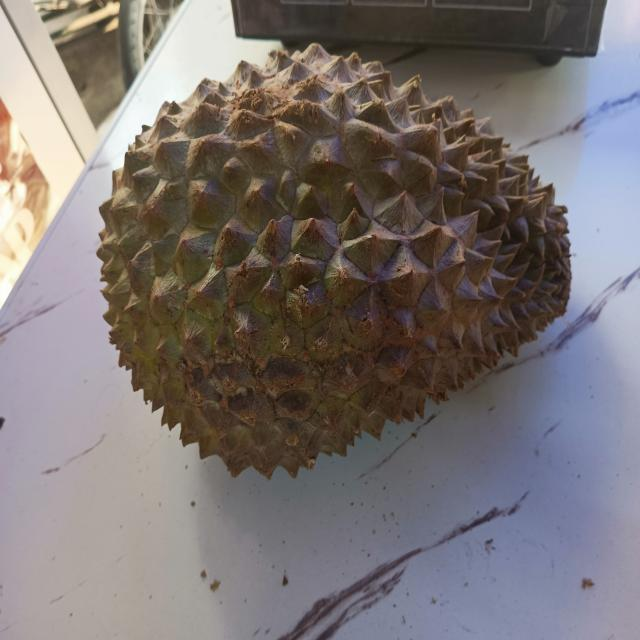mature: (98, 37, 582, 468)
